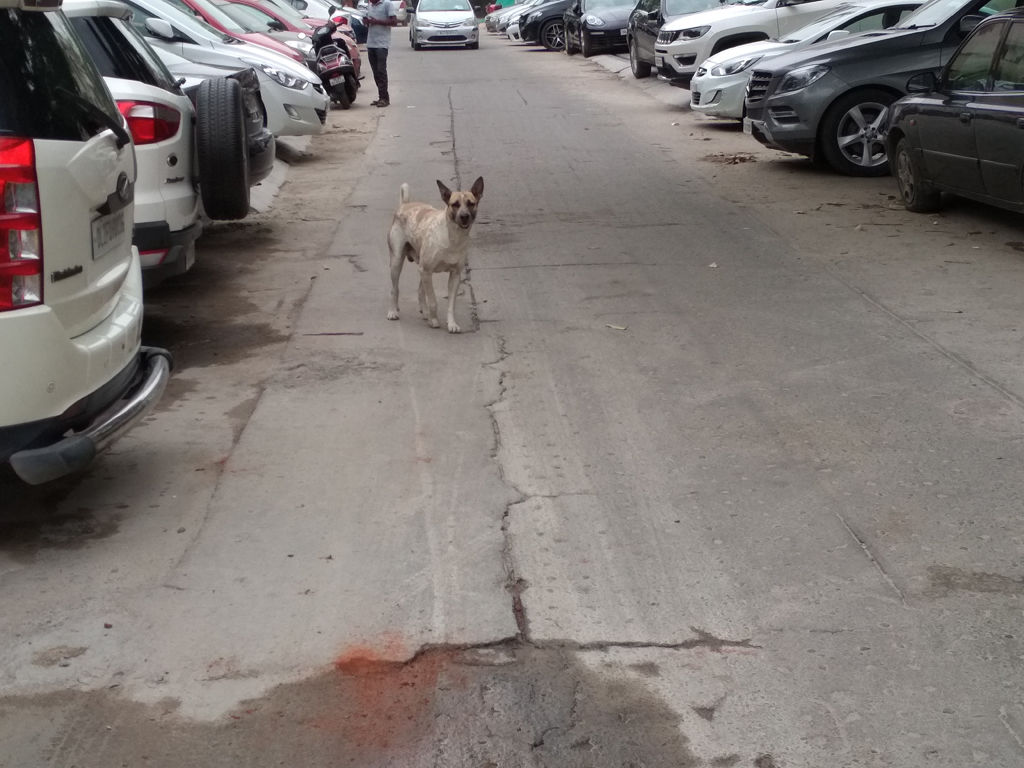dog: (387, 177, 484, 334)
